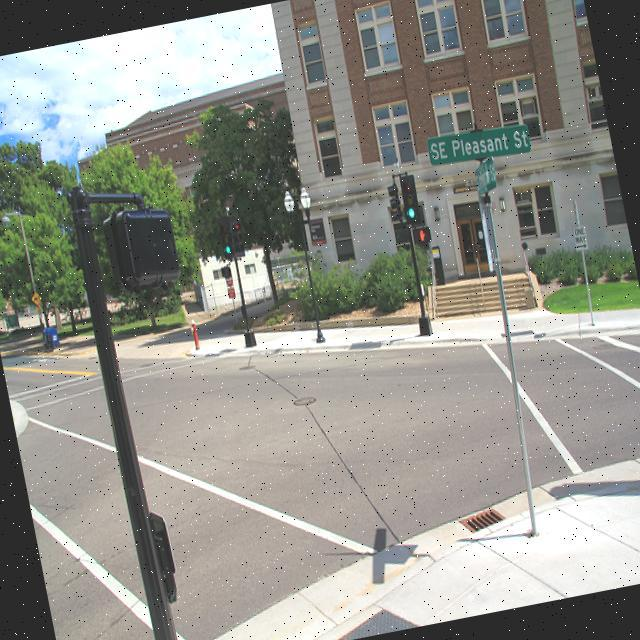fire_hydrant: (188, 318, 200, 350)
